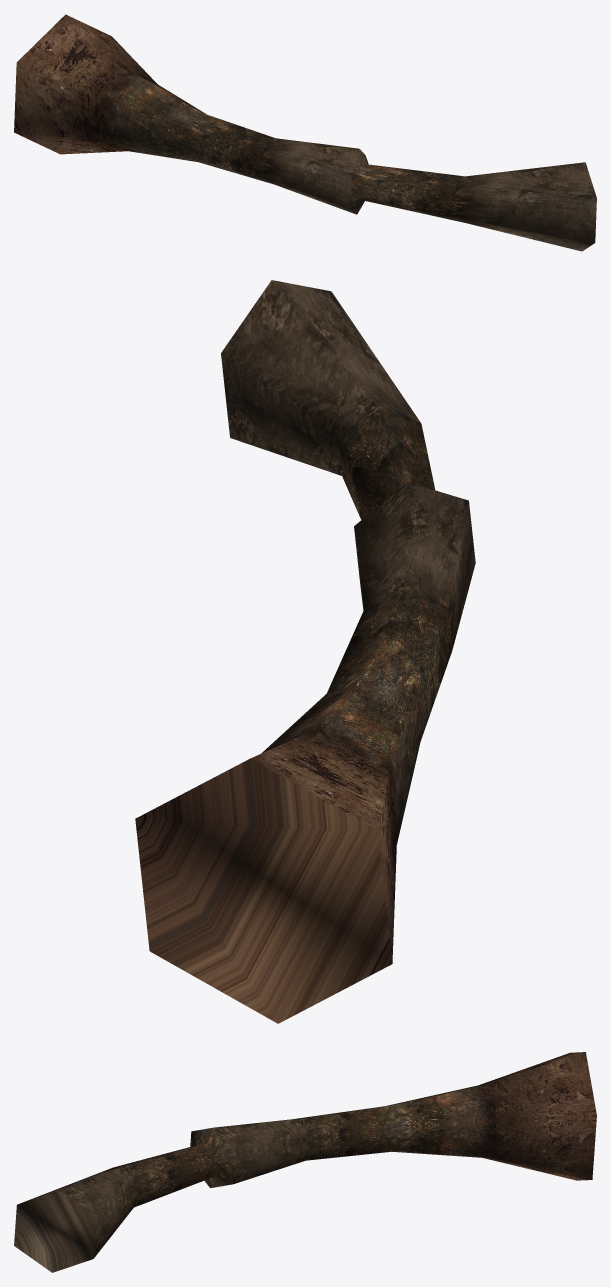
Rendered from rock-pillar_04.obj.
The picture shows the model from 3 angles, top to bottom: view 1: azimuth 30°, elevation 25°; view 2: azimuth 150°, elevation 25°; view 3: azimuth 270°, elevation 25°; orthographic projection. The views are drawn at different scales.
Visible parts, largest first — view 1: (null); view 2: (null); view 3: (null).
Boxes of the visible parts, box(x1,y1,x2,y2) form: (null): box(14, 14, 596, 251); (null): box(135, 280, 475, 1023); (null): box(14, 1052, 596, 1272).
Size of the model in its own units: 6.45 by 2.57 by 10.17.
